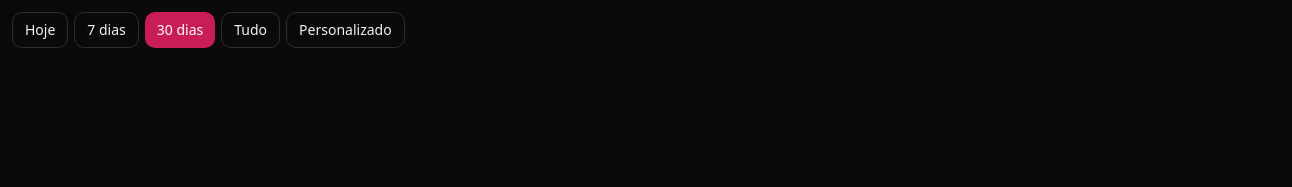
Scenario: applies a valid custom interval explicitly and keeps presets available
The width and height of the screenshot is (1292, 187).
Later steps or results of the test are not shown.
Click the button "Personalizado" at (345, 30), box [286,12,405,48]
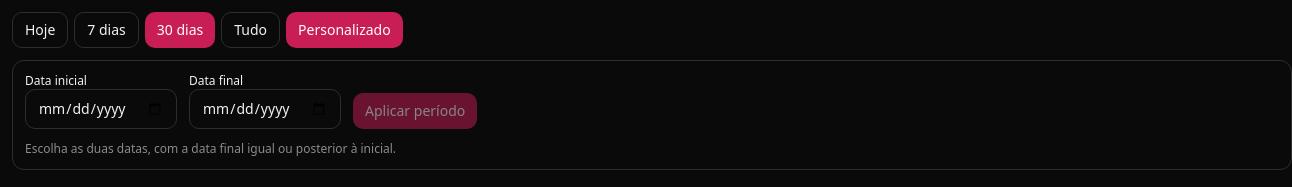
Now the button "Aplicar período" is disabled, box [353,93,477,129]
